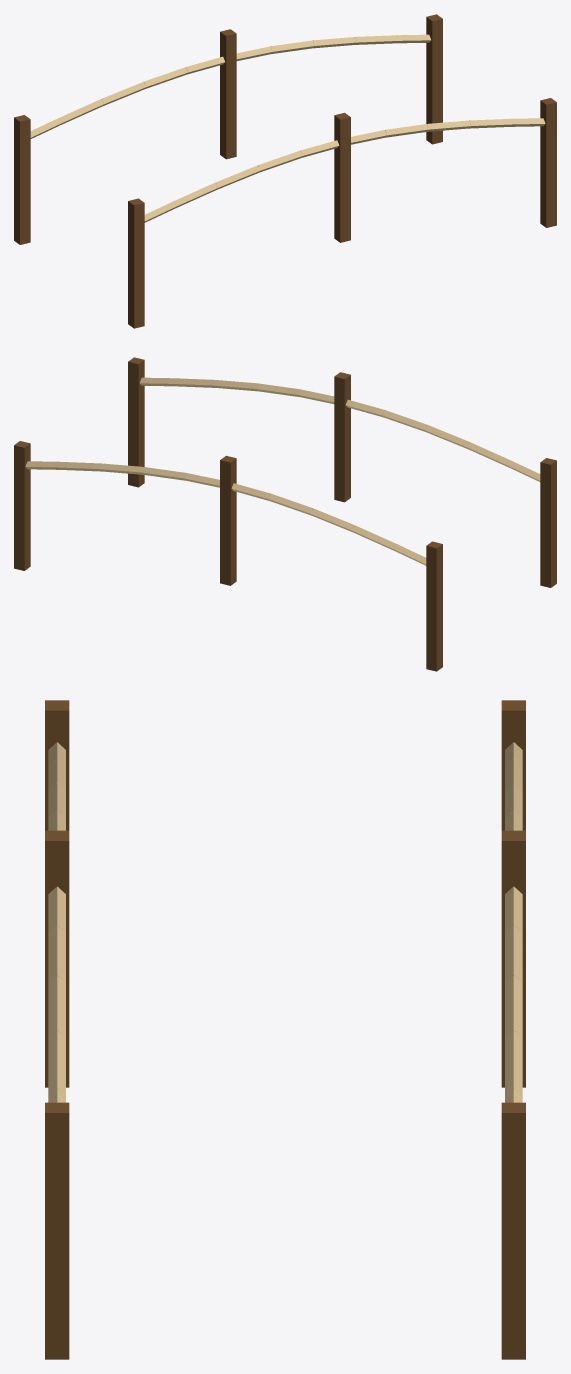
The picture shows the model from 3 angles, top to bottom: view 1: azimuth 30°, elevation 25°; view 2: azimuth 150°, elevation 25°; view 3: azimuth 270°, elevation 25°; orthographic projection. The views are drawn at different scales.
Parts seen in each view (by area): view 1: 桥栏与扶绳.001; view 2: 桥栏与扶绳.001; view 3: 桥栏与扶绳.001.
Part boxes in pixels (left/top/right/bottom): 桥栏与扶绳.001: left=14, top=14, right=556, bottom=328; 桥栏与扶绳.001: left=14, top=357, right=556, bottom=671; 桥栏与扶绳.001: left=45, top=700, right=525, bottom=1359.
Bounding box in the file's own units: 1 × 0.3605 × 0.495.
